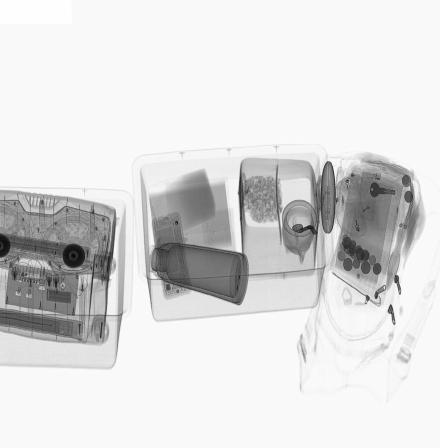Lighter: (359, 172, 381, 181)
